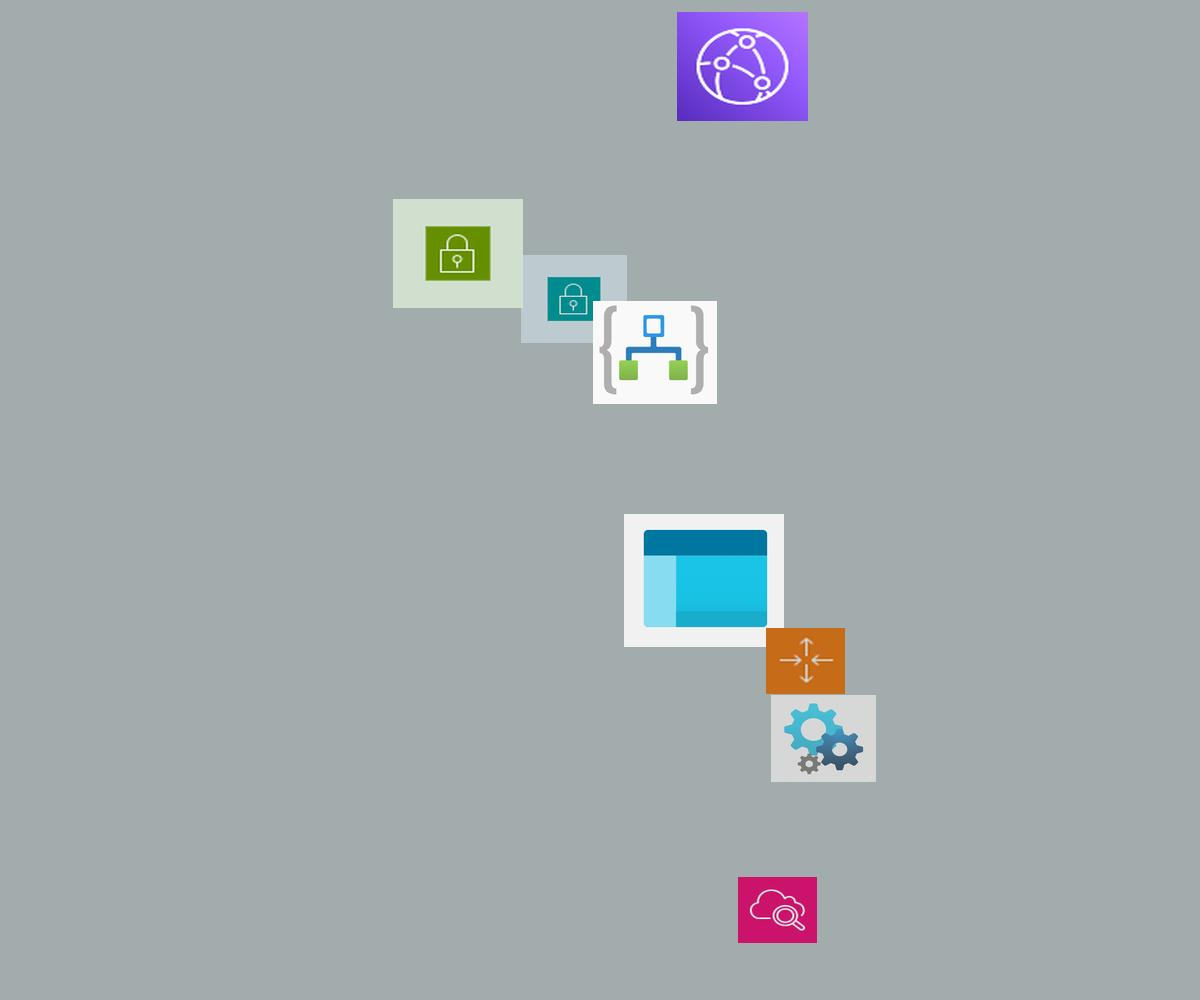AWS-CloudFront: (677, 12, 808, 121)
AWS-CloudWatch: (738, 877, 817, 943)
AWS-Private-subnet: (521, 255, 627, 343)
AWS-Public-subnet: (393, 199, 523, 308)
AWS-Scaling-group: (766, 628, 845, 694)
Azure_api: (771, 695, 876, 782)
Azure_integration-204-Logic-Apps: (593, 301, 717, 404)
Azure_management-portal: (624, 514, 784, 647)
